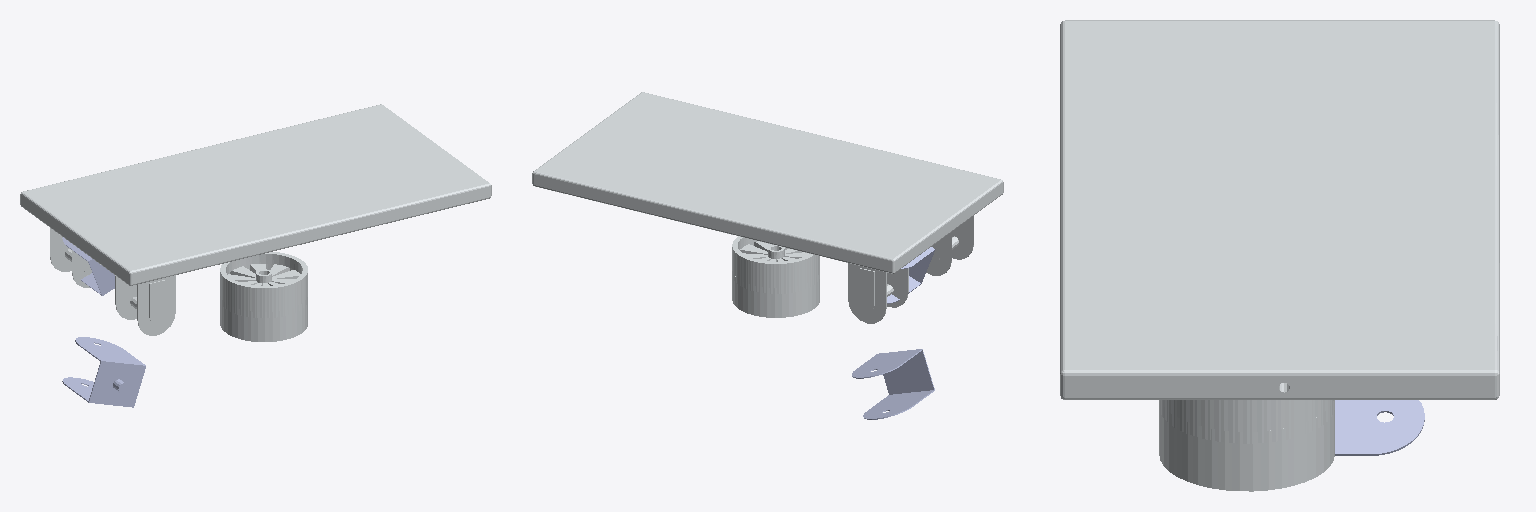
The robot description file, URDF, robot "robot_urdf":
<?xml version="1.0" encoding="utf-8"?>
<!-- This URDF was automatically created by SolidWorks to URDF Exporter! Originally created by [author] ([email redacted]) 
     Commit Version: 1.6.0-4-g7f85cfe  Build Version: 1.6.7995.38578
     For more information, please see http://wiki.ros.org/sw_urdf_exporter -->
<robot
  name="robot_urdf">
  <link
    name="base_link">
    <inertial>
      <origin
        xyz="0.00572008565715467 -0.0179961004649497 1.73194173166296E-06"
        rpy="0 0 0" />
      <mass
        value="50.9630293132178" />
      <inertia
        ixx="1.10817698910646"
        ixy="-0.0198174312915715"
        ixz="4.08596400870225E-05"
        iyy="5.0811926943117"
        iyz="-1.90741069630568E-08"
        izz="3.99708985218424" />
    </inertial>
    <visual>
      <origin
        xyz="0 0 0"
        rpy="0 0 0" />
      <geometry>
        <mesh
          filename="package://robot_urdf/meshes/base_link.STL" />
      </geometry>
      <material
        name="">
        <color
          rgba="0.898039215686275 0.917647058823529 0.929411764705882 1" />
      </material>
    </visual>
    <collision>
      <origin
        xyz="0 0 0"
        rpy="0 0 0" />
      <geometry>
        <mesh
          filename="package://robot_urdf/meshes/base_link.STL" />
      </geometry>
    </collision>
  </link>
  <link
    name="rear_left_wheel">
    <inertial>
      <origin
        xyz="0.368300000000054 -0.151129999998913 -0.160020000000019"
        rpy="0 0 0" />
      <mass
        value="5.71507847538442" />
      <inertia
        ixx="0.0206714901188206"
        ixy="4.77565279722644E-15"
        ixz="-3.35524546891118E-13"
        iyy="0.0379211813475922"
        iyz="-3.58028205423057E-15"
        izz="0.0206714901183378" />
    </inertial>
    <visual>
      <origin
        xyz="0 0 0"
        rpy="0 0 0" />
      <geometry>
        <mesh
          filename="package://robot_urdf/meshes/rear_left_wheel.STL" />
      </geometry>
      <material
        name="">
        <color
          rgba="0.898039215686275 0.917647058823529 0.929411764705882 1" />
      </material>
    </visual>
    <collision>
      <origin
        xyz="0 0 0"
        rpy="0 0 0" />
      <geometry>
        <mesh
          filename="package://robot_urdf/meshes/rear_left_wheel.STL" />
      </geometry>
    </collision>
  </link>
  <joint
    name="j_rear_left_wheel"
    type="revolute">
    <origin
      xyz="0 -0.0381 0"
      rpy="1.5708 0 0" />
    <parent
      link="base_link" />
    <child
      link="rear_left_wheel" />
    <axis
      xyz="0 1 0" />
    <limit
      lower="0"
      upper="0"
      effort="0"
      velocity="0" />
  </joint>
  <link
    name="rear_right_wheel">
    <inertial>
      <origin
        xyz="0.368299999999975 0.15112999999891 -0.160019999999946"
        rpy="0 0 0" />
      <mass
        value="5.71507847538443" />
      <inertia
        ixx="0.0206714901184329"
        ixy="5.04361647178062E-15"
        ixz="-3.86343563255688E-13"
        iyy="0.0379211813475922"
        iyz="-5.46945819816413E-15"
        izz="0.0206714901187268" />
    </inertial>
    <visual>
      <origin
        xyz="0 0 0"
        rpy="0 0 0" />
      <geometry>
        <mesh
          filename="package://robot_urdf/meshes/rear_right_wheel.STL" />
      </geometry>
      <material
        name="">
        <color
          rgba="0.898039215686275 0.917647058823529 0.929411764705882 1" />
      </material>
    </visual>
    <collision>
      <origin
        xyz="0 0 0"
        rpy="0 0 0" />
      <geometry>
        <mesh
          filename="package://robot_urdf/meshes/rear_right_wheel.STL" />
      </geometry>
    </collision>
  </link>
  <joint
    name="j_rear_right_wheel"
    type="revolute">
    <origin
      xyz="0 -0.0381 0"
      rpy="1.5708 0 0" />
    <parent
      link="base_link" />
    <child
      link="rear_right_wheel" />
    <axis
      xyz="0 1 0" />
    <limit
      lower="0"
      upper="0"
      effort="0"
      velocity="0" />
  </joint>
  <link
    name="front_left_chassis">
    <inertial>
      <origin
        xyz="-0.368393558683625 -0.152678307431702 -0.0894006385266943"
        rpy="0 0 0" />
      <mass
        value="0.141762199312227" />
      <inertia
        ixx="0.000656933169628175"
        ixy="-3.37622475088239E-05"
        ixz="-1.34543576490875E-06"
        iyy="0.000567851047509447"
        iyz="-4.00224498402914E-06"
        izz="0.000441916567523272" />
    </inertial>
    <visual>
      <origin
        xyz="0 0 0"
        rpy="0 0 0" />
      <geometry>
        <mesh
          filename="package://robot_urdf/meshes/front_left_chassis.STL" />
      </geometry>
      <material
        name="">
        <color
          rgba="0.792156862745098 0.819607843137255 0.933333333333333 1" />
      </material>
    </visual>
    <collision>
      <origin
        xyz="0 0 0"
        rpy="0 0 0" />
      <geometry>
        <mesh
          filename="package://robot_urdf/meshes/front_left_chassis.STL" />
      </geometry>
    </collision>
  </link>
  <joint
    name="j_front_left_chassis"
    type="revolute">
    <origin
      xyz="0 -0.0381 0"
      rpy="1.5708 0 0" />
    <parent
      link="base_link" />
    <child
      link="front_left_chassis" />
    <axis
      xyz="0 0 1" />
    <limit
      lower="0"
      upper="0"
      effort="0"
      velocity="0" />
  </joint>
  <link
    name="front_left_wheel">
    <inertial>
      <origin
        xyz="-0.36829999999966 -0.152399999998963 -0.160019999999948"
        rpy="0 0 0" />
      <mass
        value="5.71507847538441" />
      <inertia
        ixx="0.0224229519698563"
        ixy="0.00521004390805073"
        ixz="3.64748422798132E-14"
        iyy="0.0361697194959044"
        iyz="-4.27011704060522E-15"
        izz="0.0206714901189918" />
    </inertial>
    <visual>
      <origin
        xyz="0 0 0"
        rpy="0 0 0" />
      <geometry>
        <mesh
          filename="package://robot_urdf/meshes/front_left_wheel.STL" />
      </geometry>
      <material
        name="">
        <color
          rgba="0.898039215686275 0.917647058823529 0.929411764705882 1" />
      </material>
    </visual>
    <collision>
      <origin
        xyz="0 0 0"
        rpy="0 0 0" />
      <geometry>
        <mesh
          filename="package://robot_urdf/meshes/front_left_wheel.STL" />
      </geometry>
    </collision>
  </link>
  <joint
    name="j_front_left_wheel"
    type="revolute">
    <origin
      xyz="0 0 0"
      rpy="0 0 0" />
    <parent
      link="front_left_chassis" />
    <child
      link="front_left_wheel" />
    <axis
      xyz="-0.318646885836196 -0.947873494801334 0" />
    <limit
      lower="0"
      upper="0"
      effort="0"
      velocity="0" />
  </joint>
  <link
    name="front_right_chassis">
    <inertial>
      <origin
        xyz="-0.368194892126035 0.152125845684597 -0.0894006385266943"
        rpy="0 0 0" />
      <mass
        value="0.141762199312227" />
      <inertia
        ixx="0.000653958088941888"
        ixy="3.7363949908515E-05"
        ixz="1.5115207624209E-06"
        iyy="0.000570826128195732"
        iyz="-3.94252042410051E-06"
        izz="0.000441916567523272" />
    </inertial>
    <visual>
      <origin
        xyz="0 0 0"
        rpy="0 0 0" />
      <geometry>
        <mesh
          filename="package://robot_urdf/meshes/front_right_chassis.STL" />
      </geometry>
      <material
        name="">
        <color
          rgba="0.792156862745098 0.819607843137255 0.933333333333333 1" />
      </material>
    </visual>
    <collision>
      <origin
        xyz="0 0 0"
        rpy="0 0 0" />
      <geometry>
        <mesh
          filename="package://robot_urdf/meshes/front_right_chassis.STL" />
      </geometry>
    </collision>
  </link>
  <joint
    name="j_front_right_chassis"
    type="revolute">
    <origin
      xyz="0 -0.0381 0"
      rpy="1.5707963267949 0 0" />
    <parent
      link="base_link" />
    <child
      link="front_right_chassis" />
    <axis
      xyz="0 0 1" />
    <limit
      lower="0"
      upper="0"
      effort="0"
      velocity="0" />
  </joint>
  <link
    name="front_right_wheel">
    <inertial>
      <origin
        xyz="-0.36830000000044 0.152400000001002 -0.160020000000008"
        rpy="0 0 0" />
      <mass
        value="5.71507847538429" />
      <inertia
        ixx="0.0228820535455402"
        ixy="-0.00576584303345054"
        ixz="-1.83225312336562E-14"
        iyy="0.035710617921044"
        iyz="-5.29024496679622E-15"
        izz="0.0206714901181666" />
    </inertial>
    <visual>
      <origin
        xyz="0 0 0"
        rpy="0 0 0" />
      <geometry>
        <mesh
          filename="package://robot_urdf/meshes/front_right_wheel.STL" />
      </geometry>
      <material
        name="">
        <color
          rgba="0.898039215686275 0.917647058823529 0.929411764705882 1" />
      </material>
    </visual>
    <collision>
      <origin
        xyz="0 0 0"
        rpy="0 0 0" />
      <geometry>
        <mesh
          filename="package://robot_urdf/meshes/front_right_wheel.STL" />
      </geometry>
    </collision>
  </link>
  <joint
    name="j_front_right_wheel"
    type="continuous">
    <origin
      xyz="0 0 0"
      rpy="0 0 0" />
    <parent
      link="front_right_chassis" />
    <child
      link="front_right_wheel" />
    <axis
      xyz="0.357981701084848 -0.93372860172986 0" />
  </joint>
</robot>

--- Render facts (derived) ---
3 views of the same robot in one strip: view 1: azimuth 30°, elevation 25°; view 2: azimuth 150°, elevation 25°; view 3: azimuth 270°, elevation 25° (orthographic).
Model robot_urdf with 7 links and 6 joints (5 revolute, 1 continuous), rooted at base_link, posed every joint at zero.
Visible links, largest first — view 1: base_link, front_left_chassis, rear_right_wheel, front_right_wheel, rear_left_wheel, front_left_wheel, front_right_chassis; view 2: base_link, front_left_chassis, rear_right_wheel, front_right_wheel, rear_left_wheel, front_left_wheel, front_right_chassis; view 3: base_link, rear_left_wheel, front_left_chassis, front_left_wheel, rear_right_wheel, front_right_wheel.
Boxes of the visible links, <box> form: base_link: <box>20,104,491,335</box>; front_left_chassis: <box>62,337,145,407</box>; rear_right_wheel: <box>220,252,307,317</box>; front_right_wheel: <box>220,261,307,317</box>; rear_left_wheel: <box>220,296,307,341</box>; front_left_wheel: <box>221,304,306,341</box>; front_right_chassis: <box>62,237,114,295</box>; base_link: <box>532,92,1003,323</box>; front_left_chassis: <box>852,349,934,419</box>; rear_right_wheel: <box>732,237,819,293</box>; front_right_wheel: <box>733,236,818,293</box>; rear_left_wheel: <box>732,271,816,317</box>; front_left_wheel: <box>734,275,819,317</box>; front_right_chassis: <box>887,247,935,303</box>; base_link: <box>1060,20,1499,399</box>; rear_left_wheel: <box>1159,400,1331,490</box>; front_left_chassis: <box>1335,400,1424,455</box>; front_left_wheel: <box>1162,401,1334,491</box>; rear_right_wheel: <box>1161,400,1334,443</box>; front_right_wheel: <box>1160,400,1333,443</box>.
Bounding box of the posed robot: 0.9652 × 0.508 × 0.4841 m (x, y, z).
Meshes: 7 distinct files referenced, 7 mesh visuals loaded (7 binary STL).